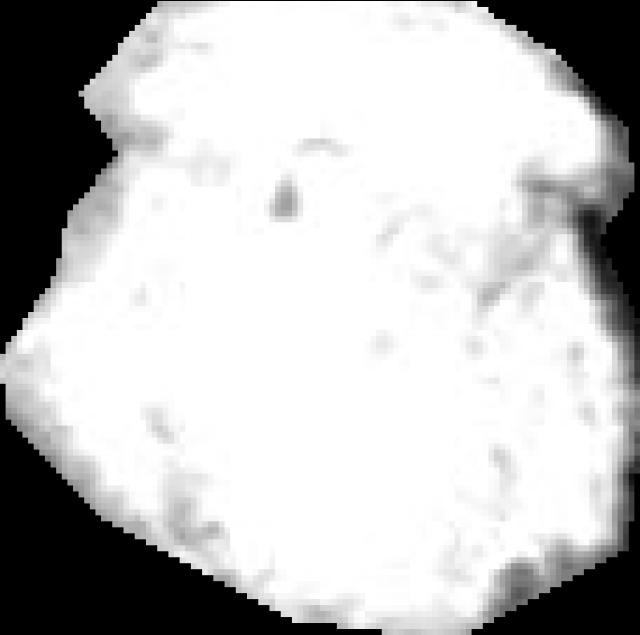tumor_less_chance: (0, 1, 640, 635)
